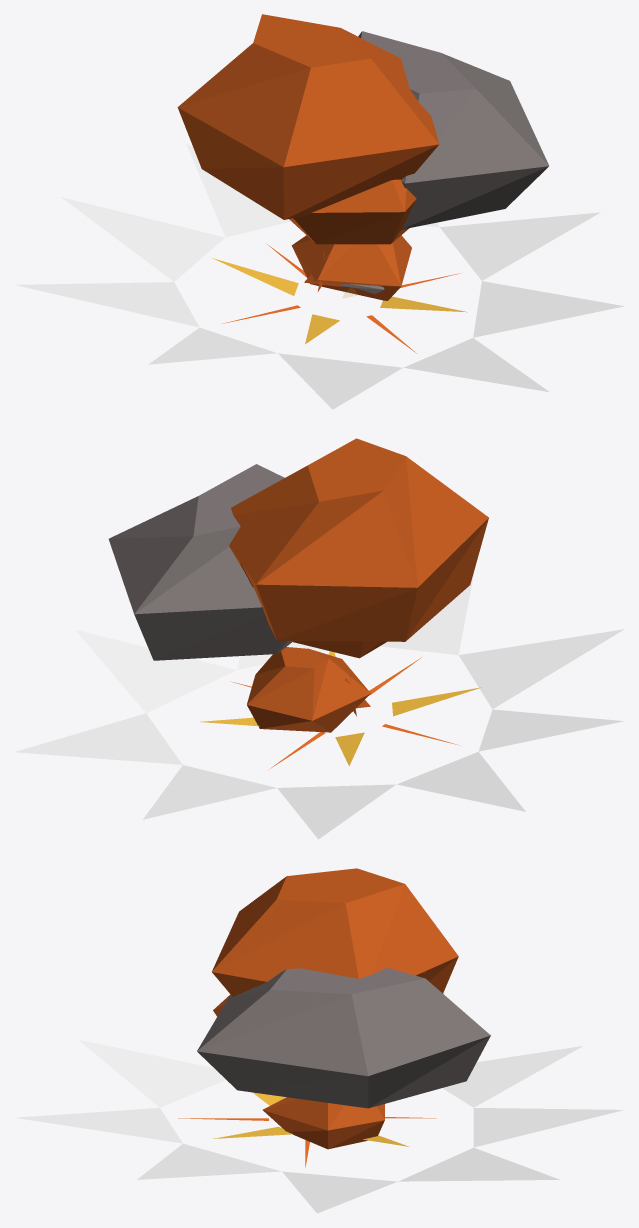
The model's file is tekton_meteor_splat.glb.
3 renders of one model, top to bottom at view 1: azimuth 30°, elevation 25°; view 2: azimuth 150°, elevation 25°; view 3: azimuth 270°, elevation 25°, orthographic. The views are drawn at different scales.
Bounding box in the file's own units: 64.14 × 30.07 × 74.7.
2 materials, 2 textured.
